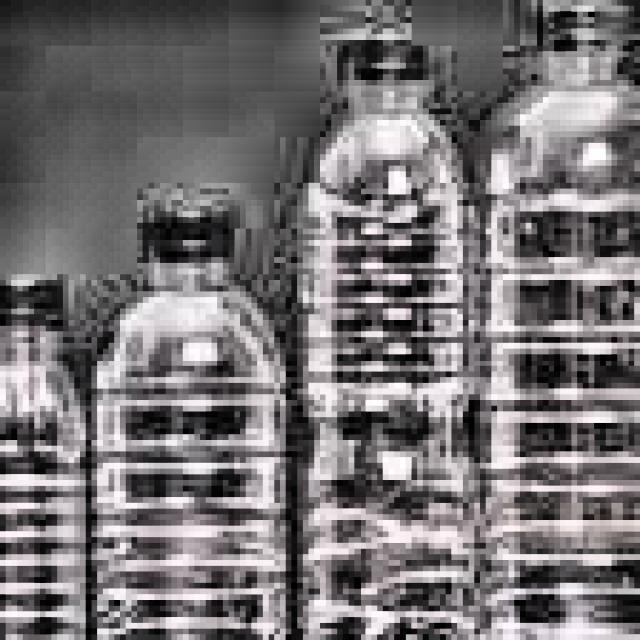plastic: (57, 165, 274, 640)
